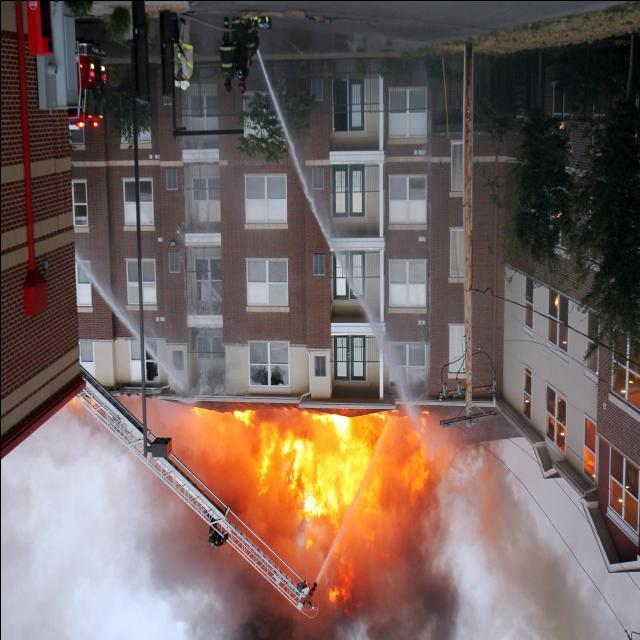Fire: (218, 402, 450, 618)
